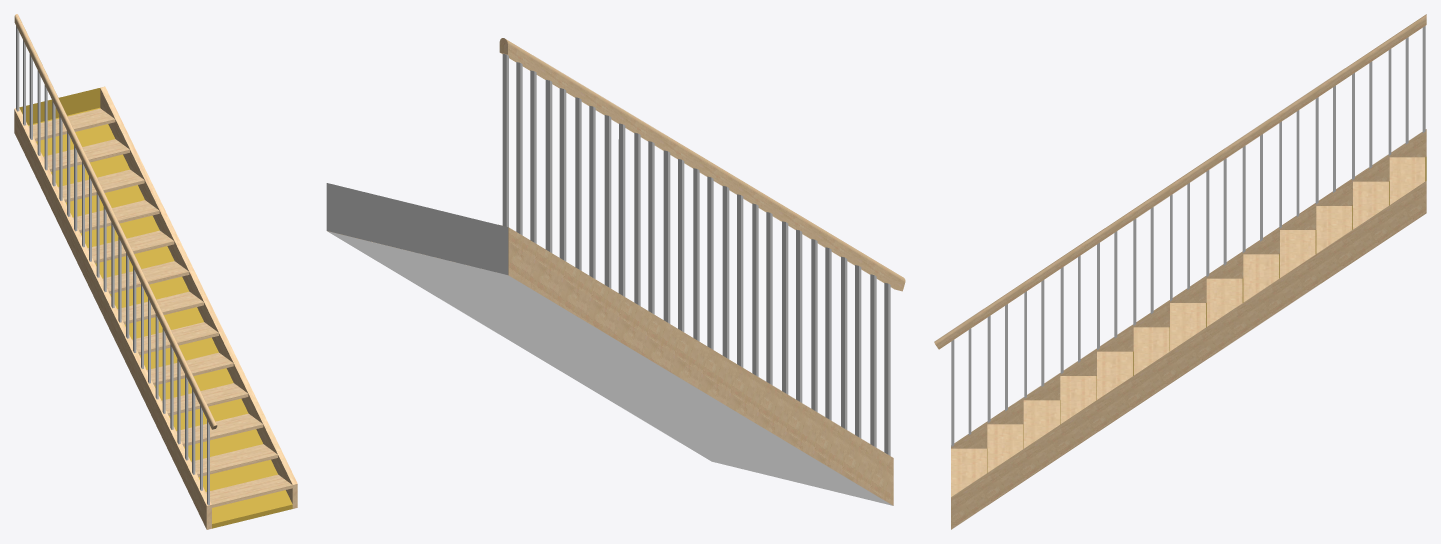
The model's file is staircase_straight.glb.
3 renders of one model, left to right at view 1: azimuth 30°, elevation 25°; view 2: azimuth 150°, elevation 25°; view 3: azimuth 270°, elevation 25°, orthographic. The views are drawn at different scales.
Bounding box in the file's own units: 89.99 × 354 × 342.
4 materials, 1 textured.
